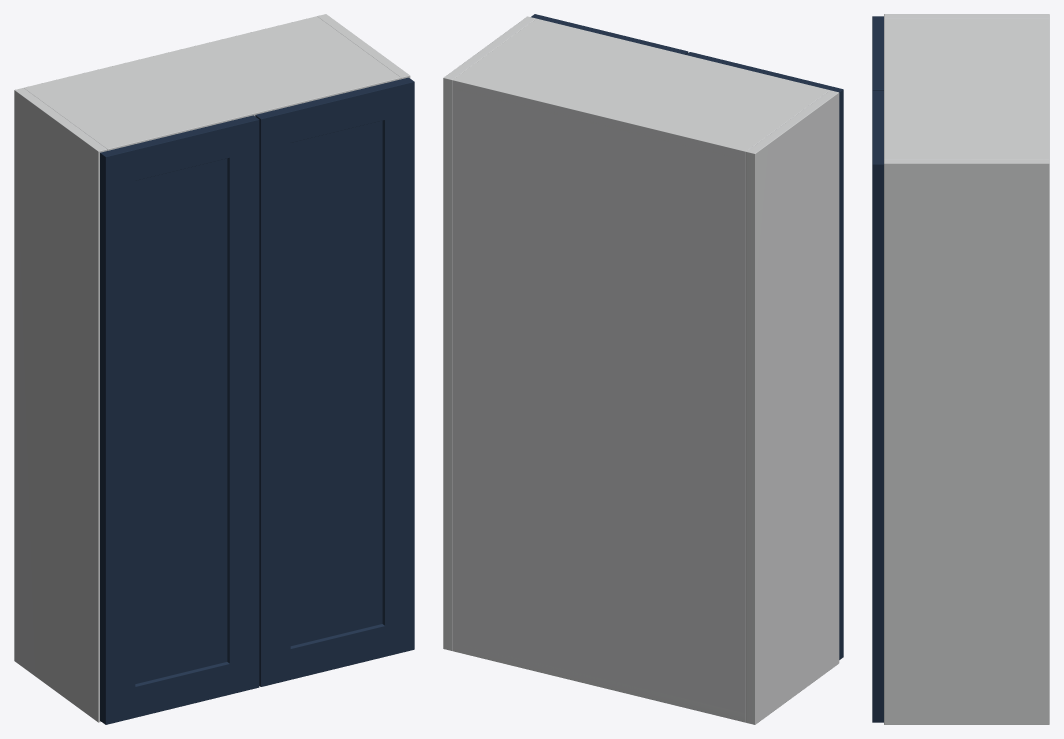
File: oppein-ply-bss-w2442.glb
The picture shows the model from 3 angles, left to right: view 1: azimuth 30°, elevation 25°; view 2: azimuth 150°, elevation 25°; view 3: azimuth 270°, elevation 25°; orthographic projection.
Parts seen in each view (by area): view 1: Door, Door.001, Cabinet side, Cabinet top, Cabinet side.001; view 2: Cabinet back, Cabinet side, Cabinet top, Cabinet side.001, Door, Cabinet bottom, Door.001; view 3: Cabinet side.001, Cabinet top, Door.001, Door, Cabinet side.
Boxes of the visible parts, bbox=[...] form: Door: bbox=[100, 115, 259, 724]; Door.001: bbox=[255, 77, 414, 686]; Cabinet side: bbox=[14, 88, 107, 722]; Cabinet top: bbox=[24, 16, 400, 150]; Cabinet side.001: bbox=[317, 14, 410, 79]; Cabinet back: bbox=[452, 80, 745, 713]; Cabinet side: bbox=[746, 90, 839, 724]; Cabinet top: bbox=[452, 18, 829, 158]; Cabinet side.001: bbox=[443, 16, 536, 650]; Door: bbox=[686, 52, 843, 659]; Cabinet bottom: bbox=[453, 642, 745, 722]; Door.001: bbox=[531, 14, 688, 54]; Cabinet side.001: bbox=[884, 159, 1049, 724]; Cabinet top: bbox=[884, 18, 1049, 159]; Door.001: bbox=[872, 90, 883, 722]; Door: bbox=[872, 16, 883, 90]; Cabinet side: bbox=[884, 14, 1049, 18].
Size of the model in its own units: 0.6096 by 1.07 by 0.3048.
